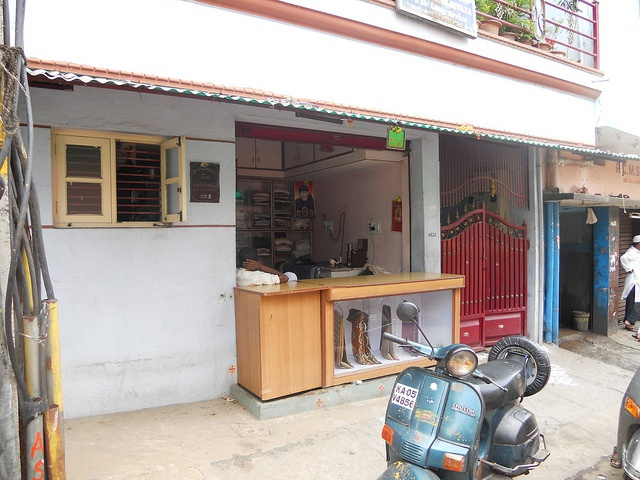non-vehicle: (376, 301, 552, 480), (615, 363, 639, 480)
